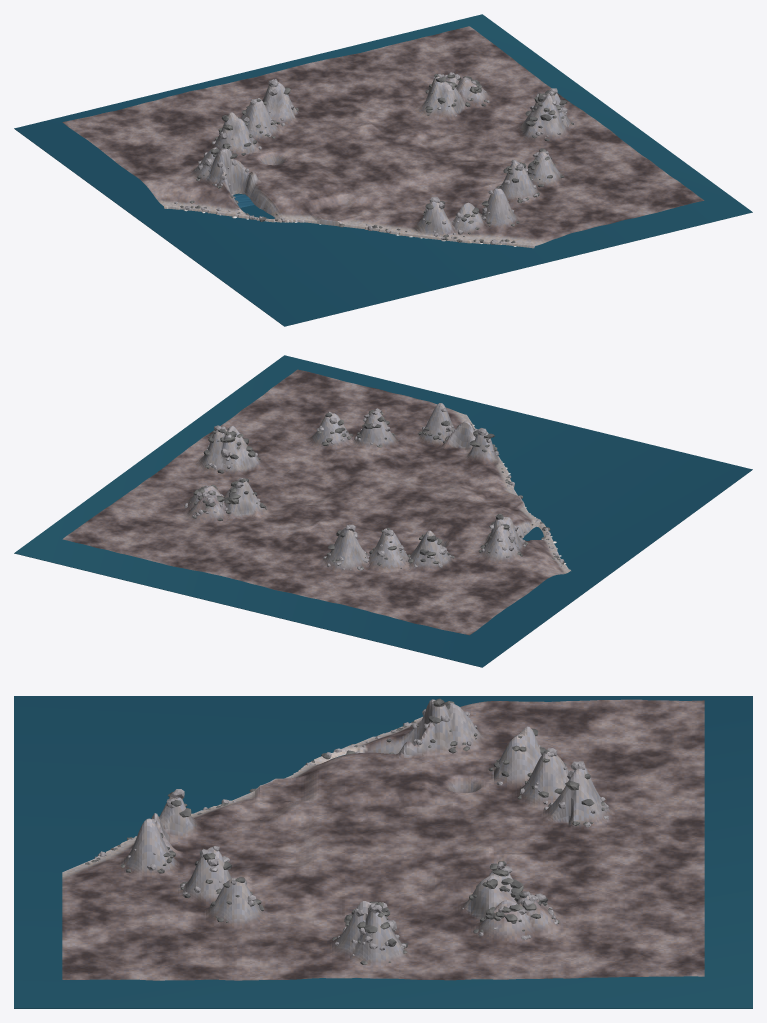
File: Terrain_P2.fbx
3 views of the same model, one above another, from view 1: azimuth 30°, elevation 25°; view 2: azimuth 150°, elevation 25°; view 3: azimuth 270°, elevation 25° (orthographic). The views are drawn at different scales.
Parts seen in each view (by area): view 1: Ground, Sea; view 2: Ground, Sea; view 3: Ground, Sea.
Part boxes in pixels (bbox=[...]): Ground: bbox=[62, 26, 704, 248]; Sea: bbox=[14, 14, 752, 326]; Ground: bbox=[62, 369, 571, 635]; Sea: bbox=[14, 355, 752, 667]; Ground: bbox=[62, 699, 704, 980]; Sea: bbox=[14, 696, 752, 1008].
Size of the model in its own units: 73600 by 9051 by 73600.
